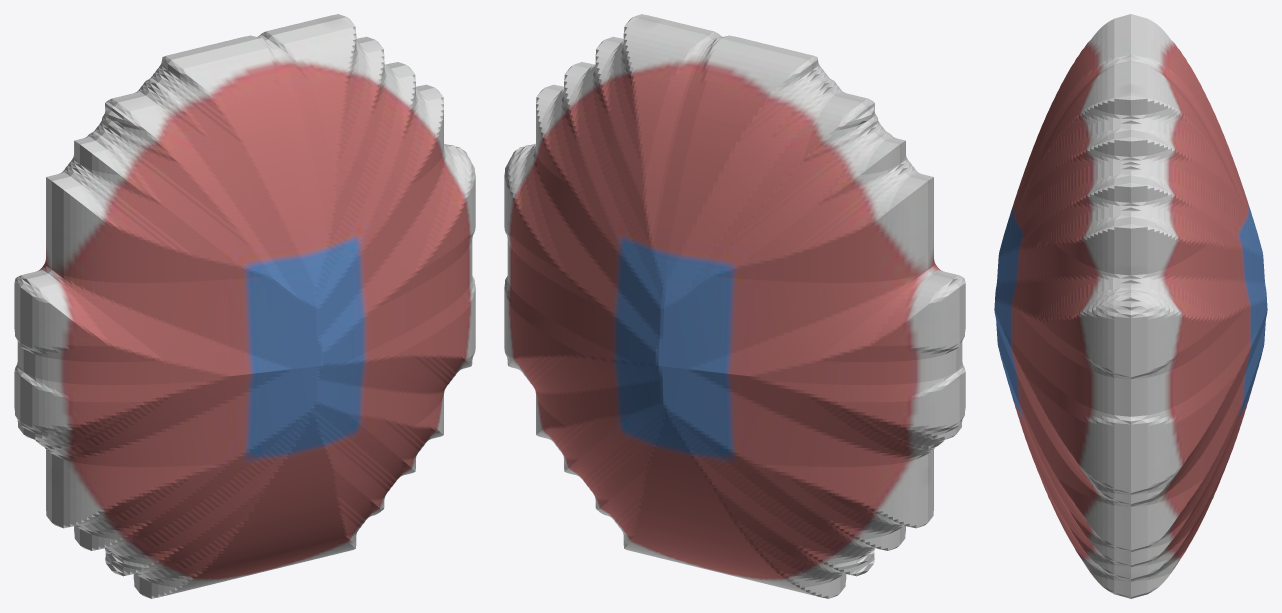
3 views of the same model, side by side, from view 1: azimuth 30°, elevation 25°; view 2: azimuth 150°, elevation 25°; view 3: azimuth 270°, elevation 25° (orthographic). The views are drawn at different scales.
Parts seen in each view (by area): view 1: geometry_0; view 2: geometry_0; view 3: geometry_0.
Part boxes in pixels (<box>): geometry_0: <box>14,14,475,598</box>; geometry_0: <box>504,14,965,598</box>; geometry_0: <box>994,14,1267,598</box>.
Bounding box in the file's own units: 0.8882 × 1 × 0.4919.
